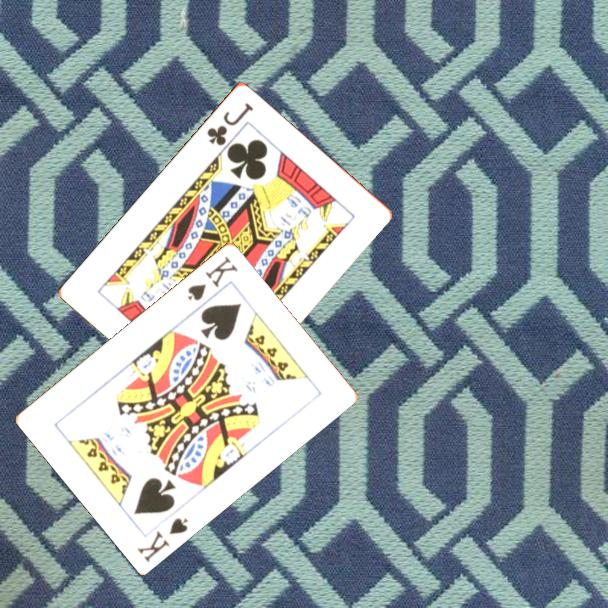c11: (203, 99, 256, 148)
s13: (133, 514, 191, 565), (184, 252, 241, 303)
